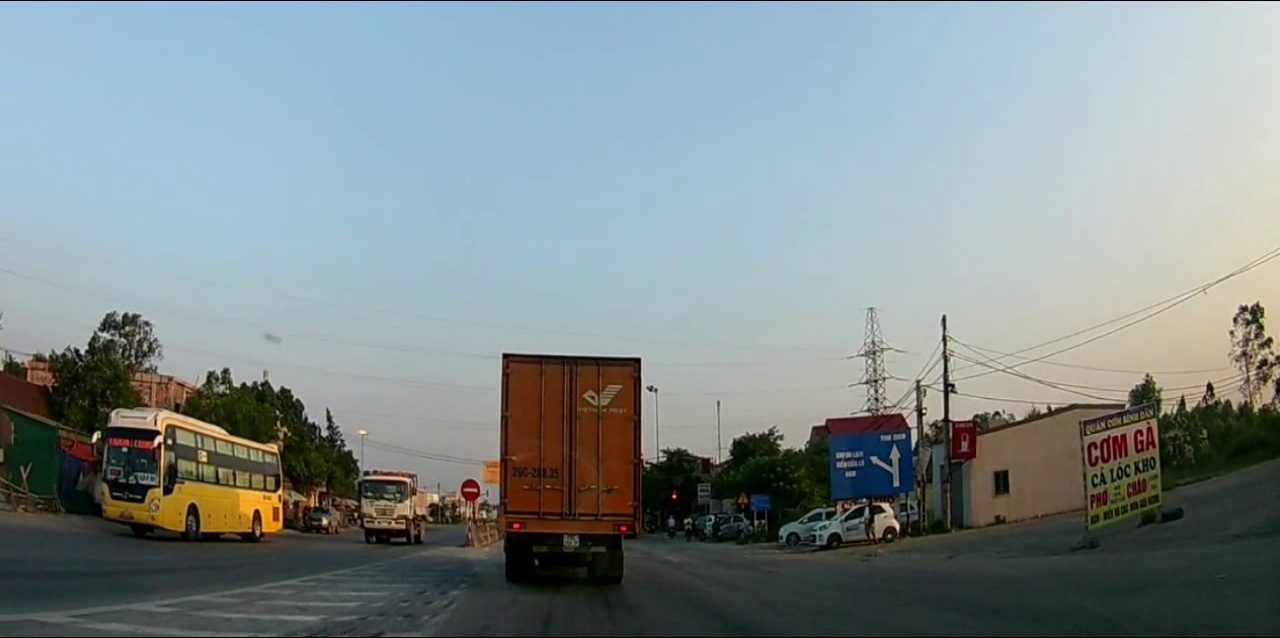Bien khac: (828, 433, 913, 496)
Cam di nguoc chieu: (460, 479, 482, 502)
